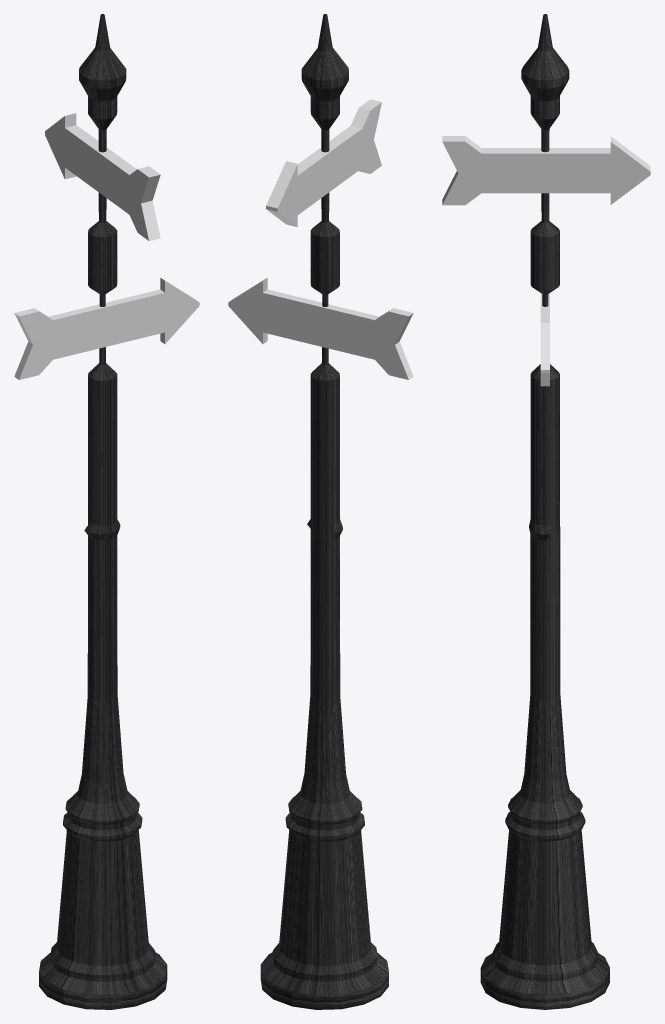
Rendered from Sign_Arrow_Right.fbx.
3 renders of one model, left to right at view 1: azimuth 30°, elevation 25°; view 2: azimuth 150°, elevation 25°; view 3: azimuth 270°, elevation 25°, orthographic.
Parts seen in each view (by area): view 1: SignPost_Direction_Right_LOD0; view 2: SignPost_Direction_Right_LOD0; view 3: SignPost_Direction_Right_LOD0.
Boxes of the visible parts, x1,y1,x2,y2 form: SignPost_Direction_Right_LOD0: (14, 14, 199, 1009); SignPost_Direction_Right_LOD0: (228, 14, 413, 1009); SignPost_Direction_Right_LOD0: (442, 14, 650, 1009).
Size of what is drawn, in the model's own units: 322 by 1651 by 322.
